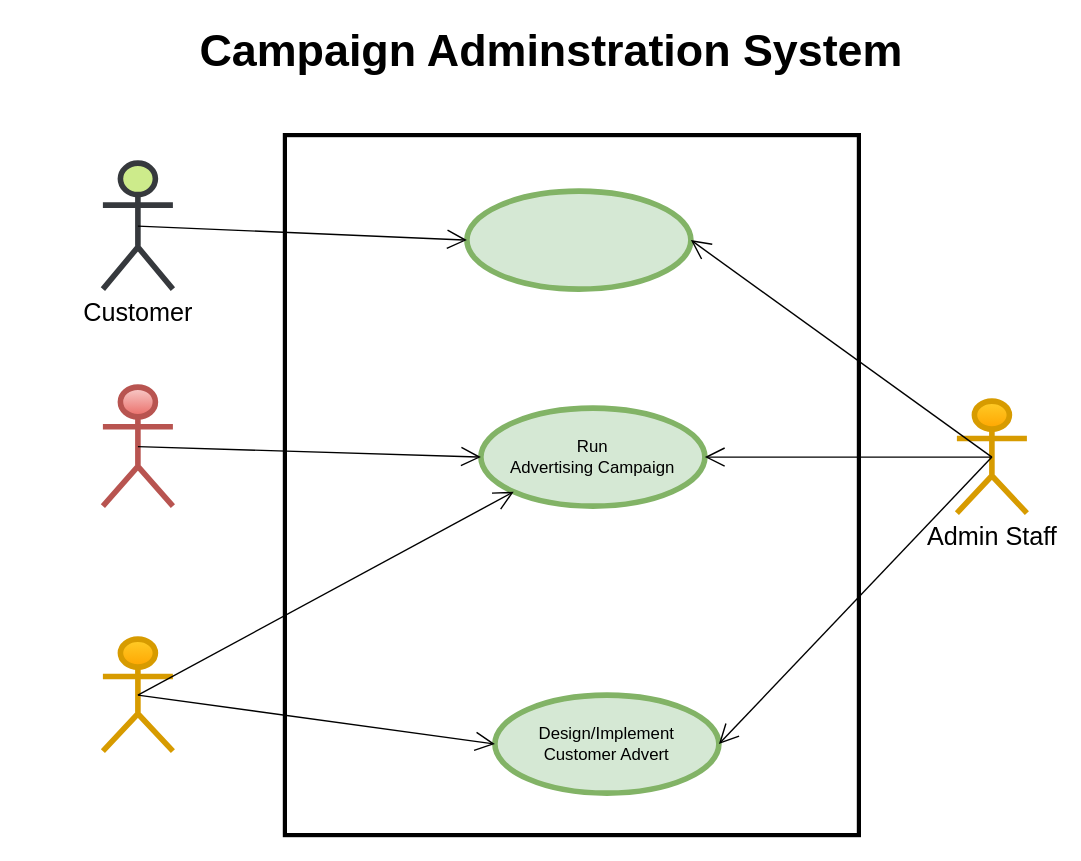
Image size: 1081x861. Some labels were removed from this diagram. Each missing label, with the centre of its shape:
Commission Advettising Company: (x=578, y=239)
Newspaper Company: (x=137, y=446)
Technical Staff: (x=137, y=694)
